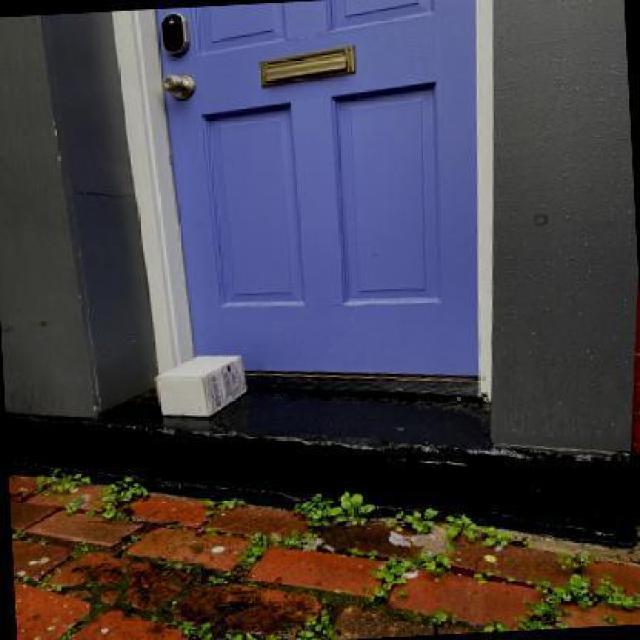box: (156, 354, 246, 417)
